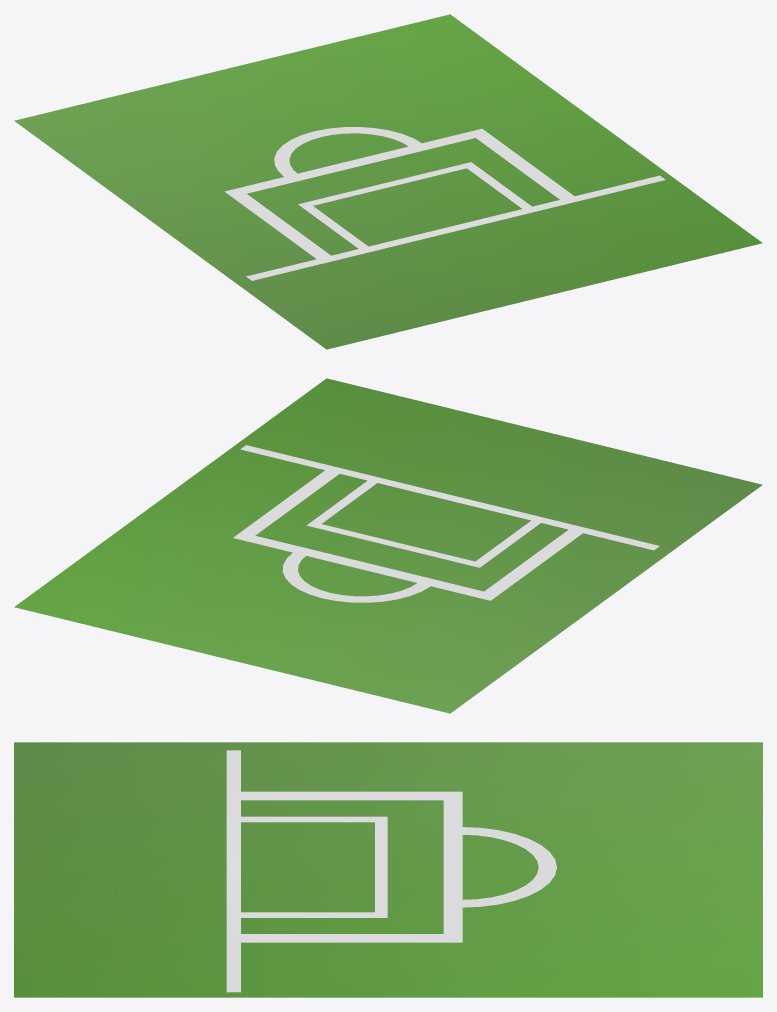
Rendered from Floor.fbx.
The picture shows the model from 3 angles, top to bottom: view 1: azimuth 30°, elevation 25°; view 2: azimuth 150°, elevation 25°; view 3: azimuth 270°, elevation 25°; orthographic projection. The views are drawn at different scales.
Visible parts, largest first — view 1: floor; view 2: floor; view 3: floor.
Part boxes in pixels (box(x1,y1,x2,y2)): floor: box(14, 14, 762, 349); floor: box(14, 378, 762, 713); floor: box(14, 742, 762, 997).
Bounding box in the file's own units: 3014 × 1.89 × 3740.
